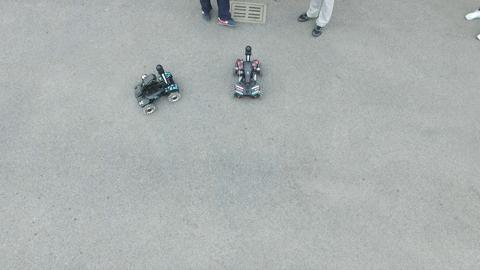chariot: (135, 64, 179, 115), (232, 45, 264, 102)
